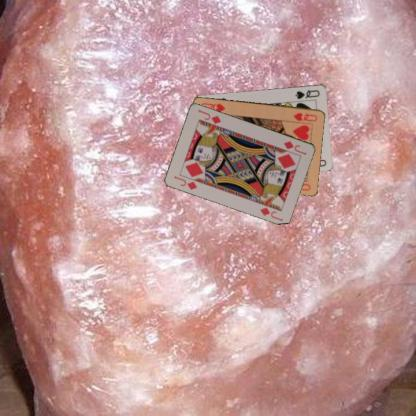Jd: (281, 138, 308, 156), (172, 173, 198, 191)
Qh: (291, 110, 318, 122)
Qs: (293, 87, 321, 100)
